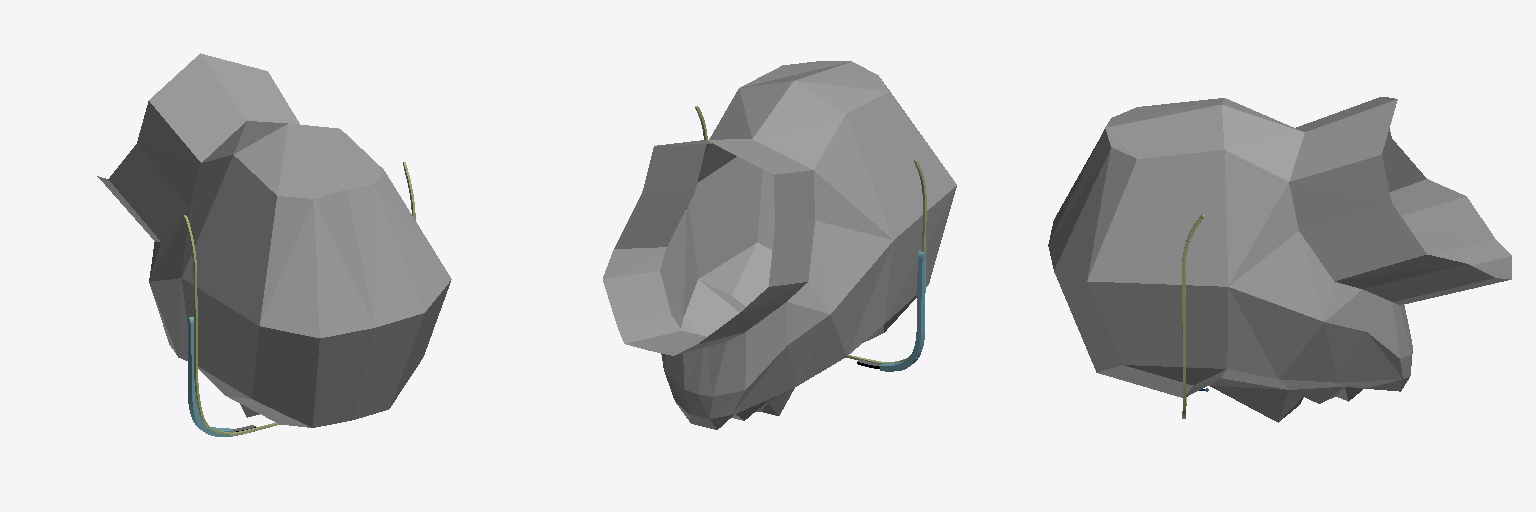
File: google-glass.obj
The picture shows the model from 3 angles: view 1: azimuth 30°, elevation 25°; view 2: azimuth 150°, elevation 25°; view 3: azimuth 270°, elevation 25°; orthographic projection.
Visible parts, largest first — view 1: Plane.011_Plane.022, Gstl_links_01, Linie002; view 2: Plane.011_Plane.022, Linie002, Gstl_links_01; view 3: Plane.011_Plane.022, Gstl_links_01.
Boxes of the visible parts, x1=… form: Plane.011_Plane.022: x1=97, y1=53, x2=451, y2=427; Gstl_links_01: x1=184, y1=162, x2=415, y2=435; Linie002: x1=188, y1=317, x2=233, y2=436; Plane.011_Plane.022: x1=603, y1=61, x2=956, y2=429; Linie002: x1=879, y1=251, x2=925, y2=371; Gstl_links_01: x1=695, y1=106, x2=926, y2=363; Plane.011_Plane.022: x1=1048, y1=97, x2=1511, y2=422; Gstl_links_01: x1=1182, y1=214, x2=1204, y2=418.
Bounding box in the file's own units: 4.31 × 5.85 × 7.75.